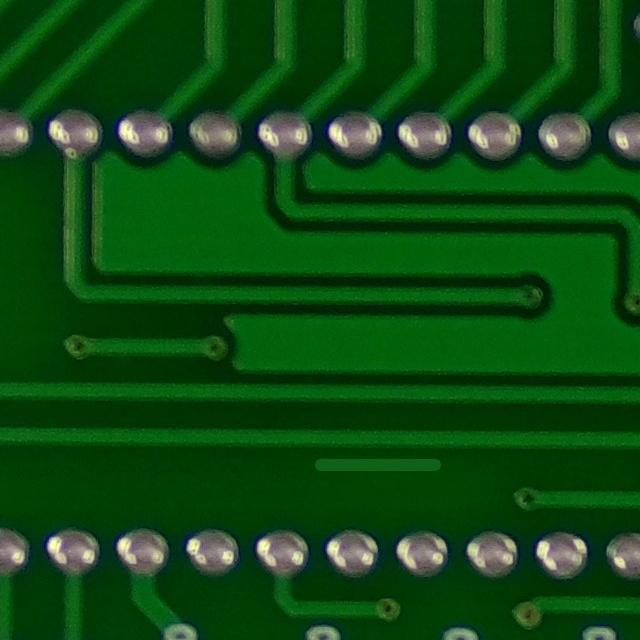spurious_copper: (302, 437, 450, 490)
